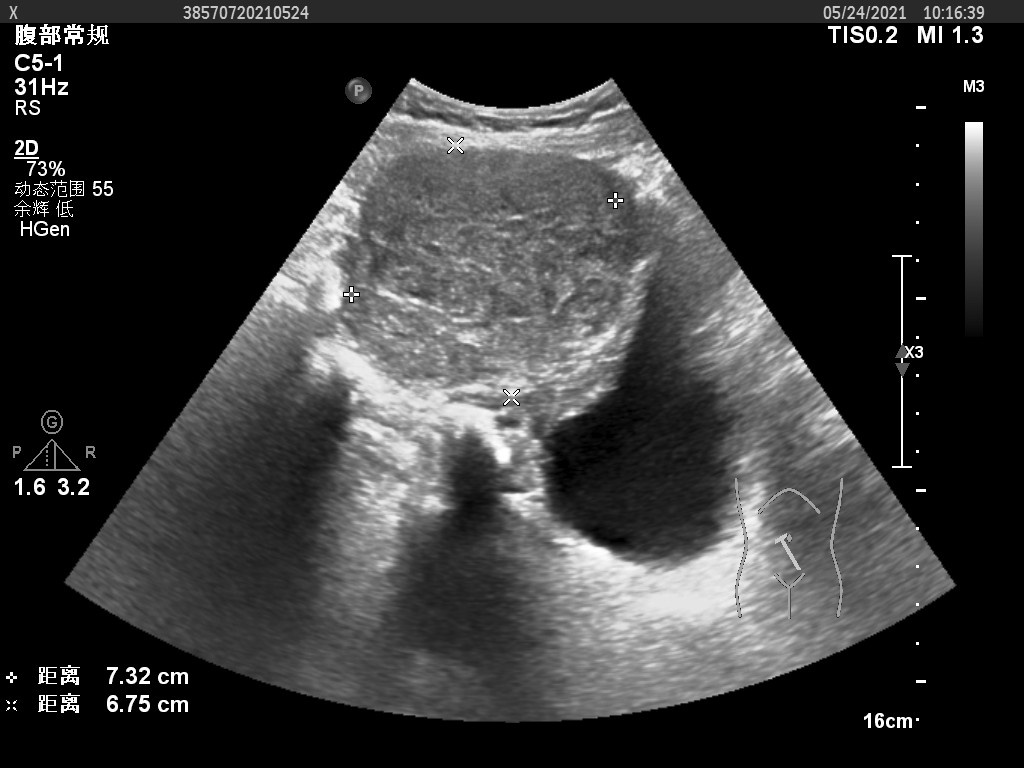肌瘤: (349, 146, 616, 399)
